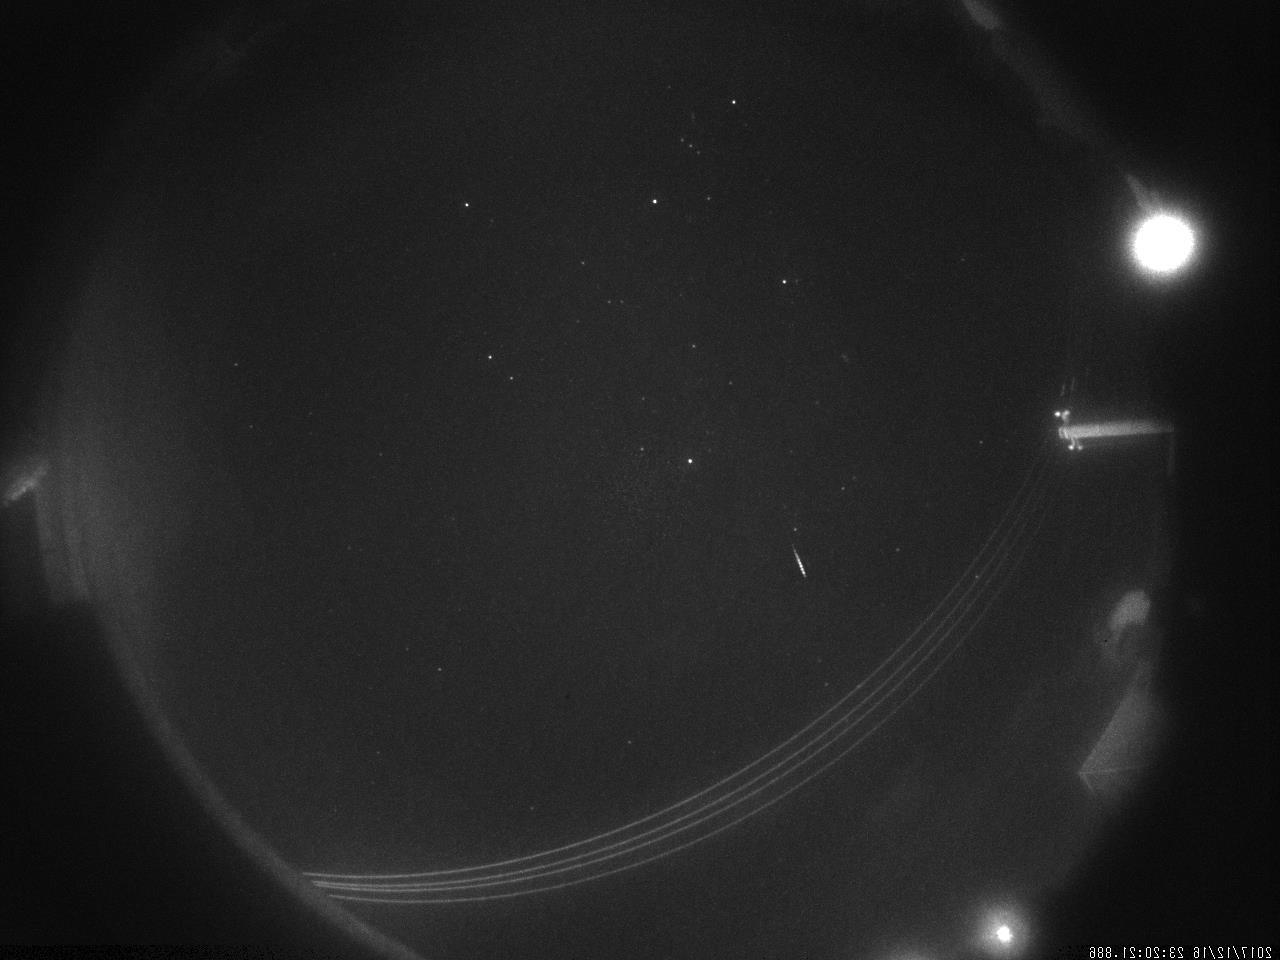meteor: (784, 539, 820, 584)
